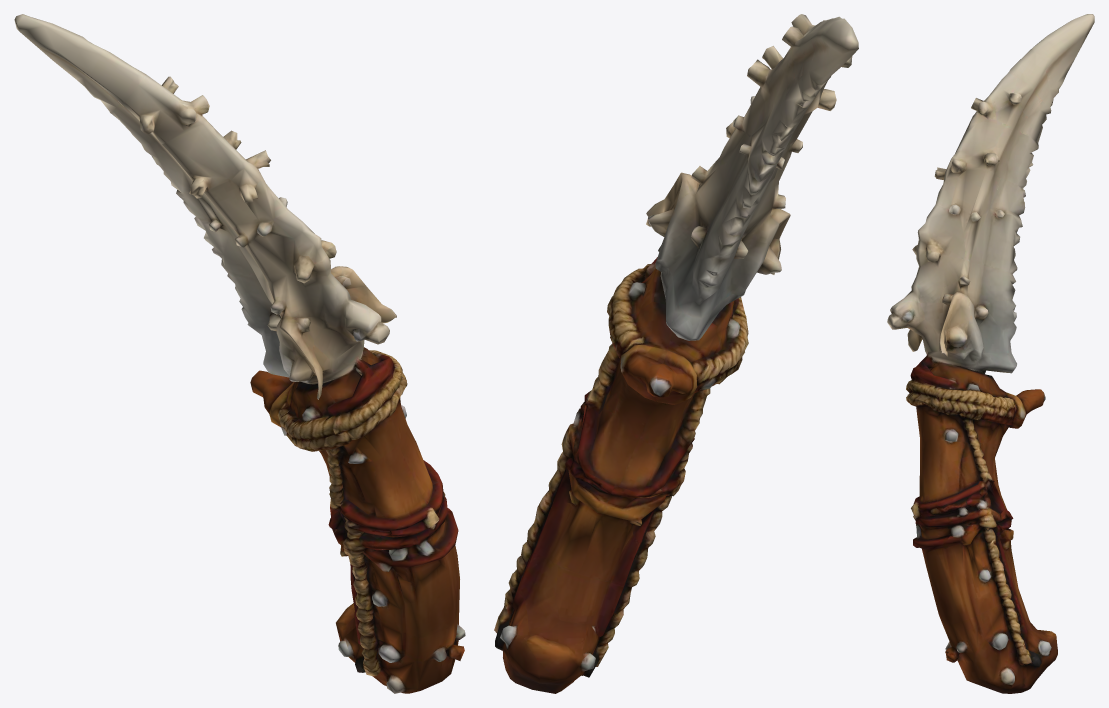
File: cuchillo_diente.glb
3 renders of one model, left to right at view 1: azimuth 30°, elevation 25°; view 2: azimuth 150°, elevation 25°; view 3: azimuth 270°, elevation 25°, orthographic. The views are drawn at different scales.
Visible parts, largest first — view 1: tripo_node_aef48b2f-0124-4a52-a874-192238ba6db7; view 2: tripo_node_aef48b2f-0124-4a52-a874-192238ba6db7; view 3: tripo_node_aef48b2f-0124-4a52-a874-192238ba6db7.
Part boxes in pixels (x1,y1,x2,y2): tripo_node_aef48b2f-0124-4a52-a874-192238ba6db7: (14,14,465,693); tripo_node_aef48b2f-0124-4a52-a874-192238ba6db7: (494,14,858,693); tripo_node_aef48b2f-0124-4a52-a874-192238ba6db7: (887,14,1094,693).
Size of the model in its own units: 0.555 by 0.9989 by 0.3399.
1 material, 1 textured.
